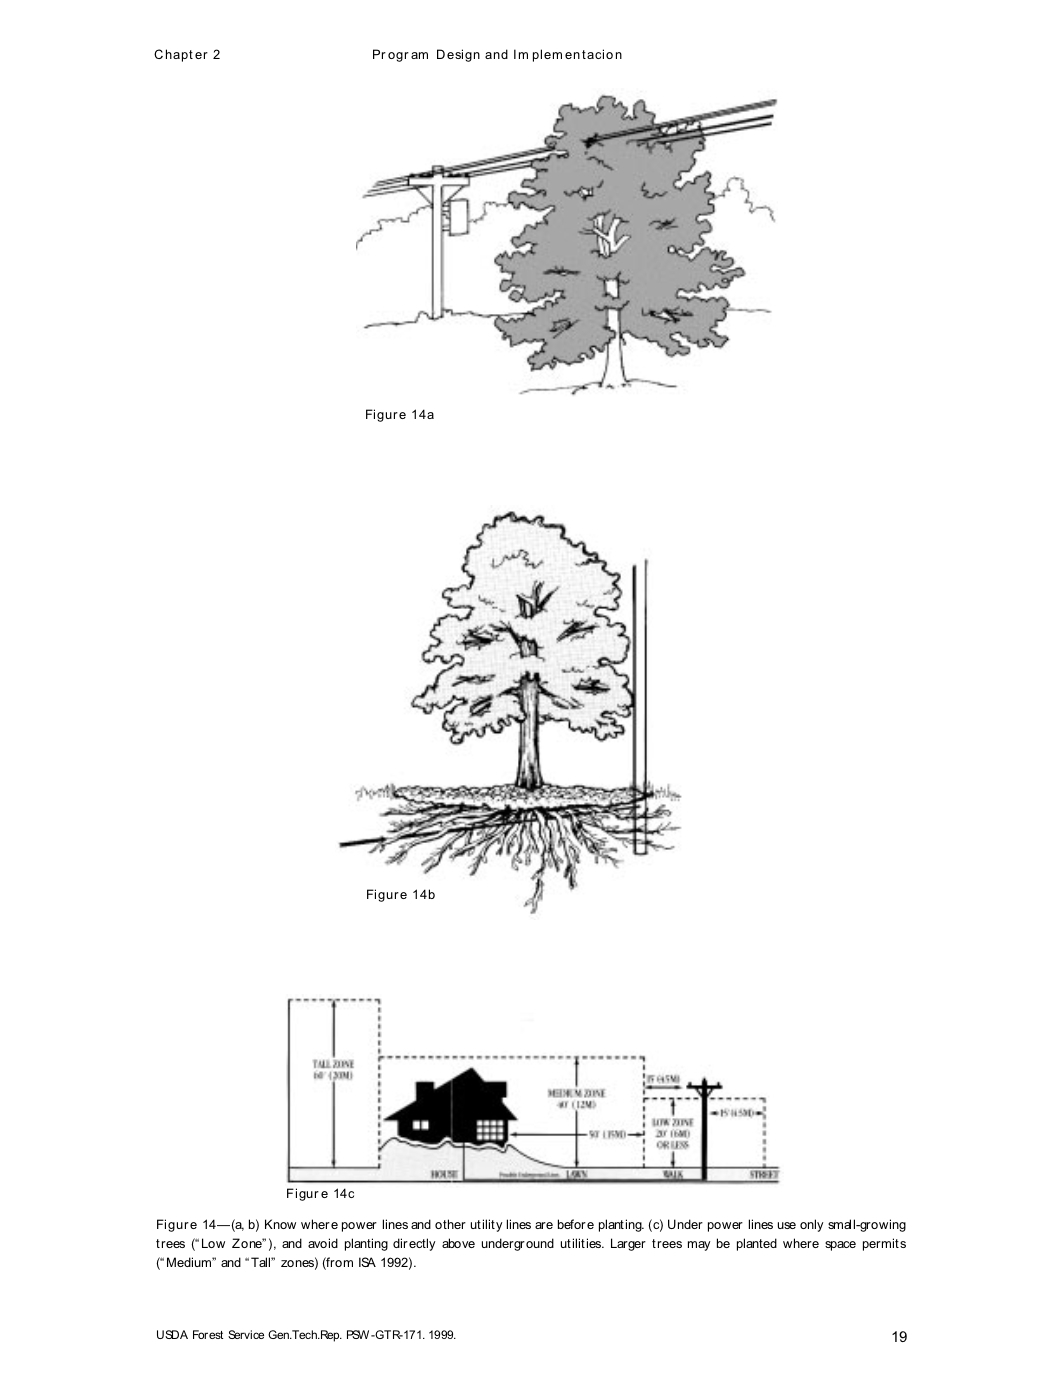figure: (338, 510, 681, 915), (356, 92, 777, 396), (286, 997, 780, 1185)
